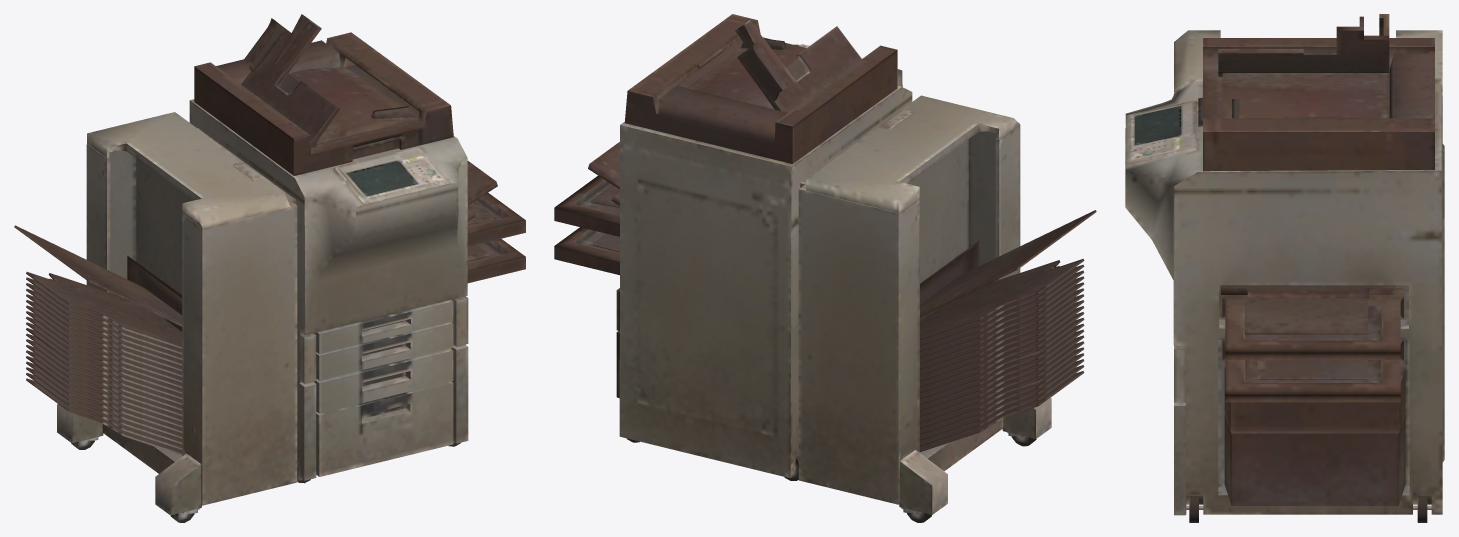
The model's file is 002_OfficeCopier.fbx.
3 renders of one model, left to right at view 1: azimuth 30°, elevation 25°; view 2: azimuth 150°, elevation 25°; view 3: azimuth 270°, elevation 25°, orthographic. The views are drawn at different scales.
Parts seen in each view (by area): view 1: LOD_1_Group_21_Sub_1__sm31_002_OfficeCopier01A_A_Mat, LOD_1_Group_0_Sub_1__sm31_002_OfficeCopier01A_A_Mat, LOD_1_Group_20_Sub_1__sm31_002_OfficeCopier01A_A_Mat, LOD_1_Group_19_Sub_1__sm31_002_OfficeCopier01A_A_Mat, LOD_1_Group_30_Sub_1__sm31_002_OfficeCopier01A_A_Mat, LOD_1_Group_8_Sub_1__sm31_002_OfficeCopier01A_A_Mat, LOD_1_Group_31_Sub_1__sm31_002_OfficeCopier01A_A_Mat, LOD_1_Group_9_Sub_1__sm31_002_OfficeCopier01A_A_Mat, LOD_1_Group_32_Sub_1__sm31_002_OfficeCopier01A_A_Mat, LOD_1_Group_1_Sub_1__sm31_002_OfficeCopier01A_A_Mat, LOD_1_Group_10_Sub_1__sm31_002_OfficeCopier01A_A_Mat, LOD_1_Group_11_Sub_1__sm31_002_OfficeCopier01A_A_Mat (+9 smaller); view 2: LOD_1_Group_0_Sub_1__sm31_002_OfficeCopier01A_A_Mat, LOD_1_Group_21_Sub_1__sm31_002_OfficeCopier01A_A_Mat, LOD_1_Group_20_Sub_1__sm31_002_OfficeCopier01A_A_Mat, LOD_1_Group_19_Sub_1__sm31_002_OfficeCopier01A_A_Mat, LOD_1_Group_30_Sub_1__sm31_002_OfficeCopier01A_A_Mat, LOD_1_Group_31_Sub_1__sm31_002_OfficeCopier01A_A_Mat, LOD_1_Group_2_Sub_1__sm31_002_OfficeCopier01A_A_Mat, LOD_1_Group_32_Sub_1__sm31_002_OfficeCopier01A_A_Mat, LOD_1_Group_5_Sub_1__sm31_002_OfficeCopier01A_A_Mat, LOD_1_Group_4_Sub_1__sm31_002_OfficeCopier01A_A_Mat, LOD_1_Group_7_Sub_1__sm31_002_OfficeCopier01A_A_Mat, LOD_1_Group_6_Sub_1__sm31_002_OfficeCopier01A_A_Mat; view 3: LOD_1_Group_0_Sub_1__sm31_002_OfficeCopier01A_A_Mat, LOD_1_Group_19_Sub_1__sm31_002_OfficeCopier01A_A_Mat, LOD_1_Group_16_Sub_1__sm31_002_OfficeCopier01A_A_Mat, LOD_1_Group_32_Sub_1__sm31_002_OfficeCopier01A_A_Mat, LOD_1_Group_5_Sub_1__sm31_002_OfficeCopier01A_A_Mat, LOD_1_Group_3_Sub_1__sm31_002_OfficeCopier01A_A_Mat, LOD_1_Group_4_Sub_1__sm31_002_OfficeCopier01A_A_Mat, LOD_1_Group_31_Sub_1__sm31_002_OfficeCopier01A_A_Mat, LOD_1_Group_17_Sub_1__sm31_002_OfficeCopier01A_A_Mat, LOD_1_Group_1_Sub_1__sm31_002_OfficeCopier01A_A_Mat, LOD_1_Group_30_Sub_1__sm31_002_OfficeCopier01A_A_Mat, LOD_1_Group_6_Sub_1__sm31_002_OfficeCopier01A_A_Mat (+3 smaller).
Part boxes in pixels (bbox=[...]): LOD_1_Group_21_Sub_1__sm31_002_OfficeCopier01A_A_Mat: bbox=[57, 128, 297, 515]; LOD_1_Group_0_Sub_1__sm31_002_OfficeCopier01A_A_Mat: bbox=[189, 99, 467, 459]; LOD_1_Group_20_Sub_1__sm31_002_OfficeCopier01A_A_Mat: bbox=[26, 272, 182, 455]; LOD_1_Group_19_Sub_1__sm31_002_OfficeCopier01A_A_Mat: bbox=[194, 32, 453, 175]; LOD_1_Group_30_Sub_1__sm31_002_OfficeCopier01A_A_Mat: bbox=[87, 112, 290, 228]; LOD_1_Group_8_Sub_1__sm31_002_OfficeCopier01A_A_Mat: bbox=[316, 381, 453, 476]; LOD_1_Group_31_Sub_1__sm31_002_OfficeCopier01A_A_Mat: bbox=[241, 14, 340, 147]; LOD_1_Group_9_Sub_1__sm31_002_OfficeCopier01A_A_Mat: bbox=[314, 348, 453, 413]; LOD_1_Group_32_Sub_1__sm31_002_OfficeCopier01A_A_Mat: bbox=[288, 67, 417, 144]; LOD_1_Group_1_Sub_1__sm31_002_OfficeCopier01A_A_Mat: bbox=[334, 147, 449, 204]; LOD_1_Group_10_Sub_1__sm31_002_OfficeCopier01A_A_Mat: bbox=[316, 322, 453, 380]; LOD_1_Group_11_Sub_1__sm31_002_OfficeCopier01A_A_Mat: bbox=[314, 300, 453, 353]; LOD_1_Group_0_Sub_1__sm31_002_OfficeCopier01A_A_Mat: bbox=[619, 44, 912, 478]; LOD_1_Group_21_Sub_1__sm31_002_OfficeCopier01A_A_Mat: bbox=[798, 107, 1051, 514]; LOD_1_Group_20_Sub_1__sm31_002_OfficeCopier01A_A_Mat: bbox=[920, 258, 1084, 451]; LOD_1_Group_19_Sub_1__sm31_002_OfficeCopier01A_A_Mat: bbox=[624, 14, 897, 163]; LOD_1_Group_30_Sub_1__sm31_002_OfficeCopier01A_A_Mat: bbox=[806, 95, 1019, 212]; LOD_1_Group_31_Sub_1__sm31_002_OfficeCopier01A_A_Mat: bbox=[735, 20, 861, 112]; LOD_1_Group_2_Sub_1__sm31_002_OfficeCopier01A_A_Mat: bbox=[920, 210, 1096, 316]; LOD_1_Group_32_Sub_1__sm31_002_OfficeCopier01A_A_Mat: bbox=[687, 38, 806, 109]; LOD_1_Group_5_Sub_1__sm31_002_OfficeCopier01A_A_Mat: bbox=[554, 175, 619, 236]; LOD_1_Group_4_Sub_1__sm31_002_OfficeCopier01A_A_Mat: bbox=[554, 227, 619, 275]; LOD_1_Group_7_Sub_1__sm31_002_OfficeCopier01A_A_Mat: bbox=[920, 241, 979, 321]; LOD_1_Group_6_Sub_1__sm31_002_OfficeCopier01A_A_Mat: bbox=[588, 142, 619, 205]; LOD_1_Group_0_Sub_1__sm31_002_OfficeCopier01A_A_Mat: bbox=[1125, 78, 1444, 514]; LOD_1_Group_19_Sub_1__sm31_002_OfficeCopier01A_A_Mat: bbox=[1198, 38, 1434, 171]; LOD_1_Group_16_Sub_1__sm31_002_OfficeCopier01A_A_Mat: bbox=[1224, 412, 1405, 505]; LOD_1_Group_32_Sub_1__sm31_002_OfficeCopier01A_A_Mat: bbox=[1222, 73, 1389, 118]; LOD_1_Group_5_Sub_1__sm31_002_OfficeCopier01A_A_Mat: bbox=[1222, 288, 1403, 359]; LOD_1_Group_3_Sub_1__sm31_002_OfficeCopier01A_A_Mat: bbox=[1224, 366, 1405, 431]; LOD_1_Group_4_Sub_1__sm31_002_OfficeCopier01A_A_Mat: bbox=[1222, 339, 1403, 402]; LOD_1_Group_31_Sub_1__sm31_002_OfficeCopier01A_A_Mat: bbox=[1218, 14, 1389, 76]; LOD_1_Group_17_Sub_1__sm31_002_OfficeCopier01A_A_Mat: bbox=[1244, 295, 1367, 334]; LOD_1_Group_1_Sub_1__sm31_002_OfficeCopier01A_A_Mat: bbox=[1126, 100, 1196, 165]; LOD_1_Group_30_Sub_1__sm31_002_OfficeCopier01A_A_Mat: bbox=[1174, 30, 1442, 91]; LOD_1_Group_6_Sub_1__sm31_002_OfficeCopier01A_A_Mat: bbox=[1221, 285, 1395, 298].
Size of the model in its own units: 1.64 by 1.44 by 0.8797.
